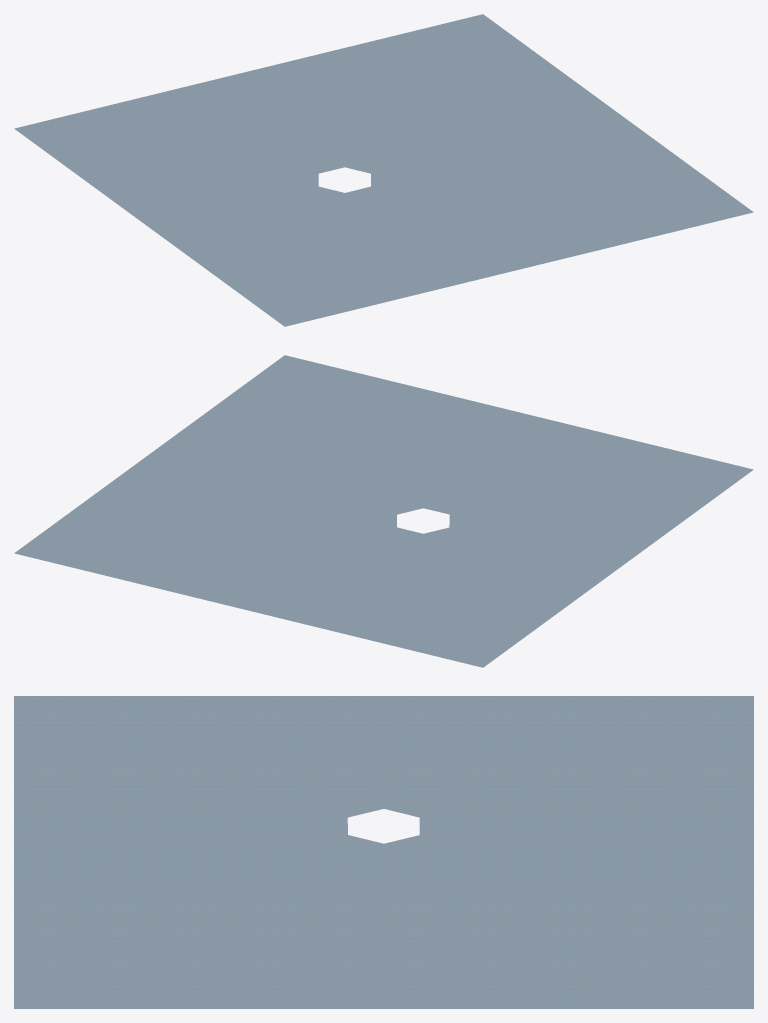
Rendered from Floor.gltf.
3 renders of one model, top to bottom at view 1: azimuth 30°, elevation 25°; view 2: azimuth 150°, elevation 25°; view 3: azimuth 270°, elevation 25°, orthographic. The views are drawn at different scales.
Parts seen in each view (by area): view 1: Rectangle293; view 2: Rectangle293; view 3: Rectangle293.
Part boxes in pixels (x1,y1,x2,y2): Rectangle293: (14, 14, 753, 326); Rectangle293: (14, 355, 753, 667); Rectangle293: (14, 696, 753, 1008).
Size of the model in its own units: 12500 by 2.78e-12 by 12500.
1 material, 1 textured.
